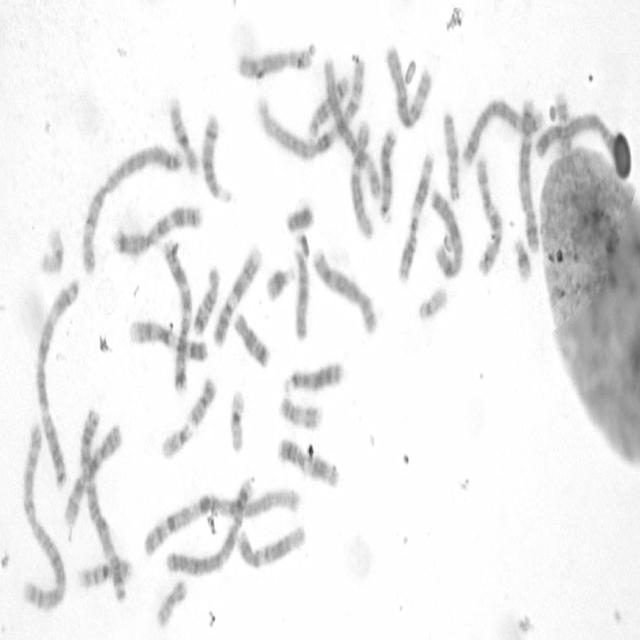A1: (140, 486, 302, 560), (256, 58, 366, 164)
A2: (81, 142, 184, 276), (20, 419, 67, 613)
A3: (33, 276, 80, 490), (79, 404, 128, 606)
B4: (164, 479, 253, 577), (534, 110, 616, 162)
B5: (460, 98, 547, 168), (517, 96, 541, 253)
C10: (64, 423, 122, 528), (474, 153, 505, 280)
C11: (396, 149, 435, 283), (277, 434, 340, 491)
C12: (236, 521, 306, 569), (350, 120, 375, 240)
C6: (322, 55, 381, 200), (386, 44, 434, 130)
C7: (111, 202, 203, 259), (161, 238, 194, 394)
C8: (312, 247, 379, 338), (236, 46, 312, 82)
C9: (212, 243, 262, 349), (128, 318, 209, 364)
D13: (281, 361, 344, 399), (378, 126, 398, 226)
D14: (308, 72, 352, 144), (200, 112, 233, 205)
D15: (442, 110, 461, 204), (293, 243, 310, 343)
E16: (169, 96, 199, 177), (79, 553, 134, 591)
E17: (278, 395, 322, 433), (554, 89, 572, 159)
E18: (232, 312, 271, 370), (191, 264, 220, 336)
F19: (40, 224, 65, 276), (228, 387, 246, 453)
F20: (154, 578, 188, 629), (187, 377, 217, 429)
G21: (264, 264, 297, 302), (512, 233, 535, 285)
G22: (418, 286, 449, 321)
X: (428, 189, 465, 281), (159, 421, 194, 460)
Y: (285, 202, 315, 235)
